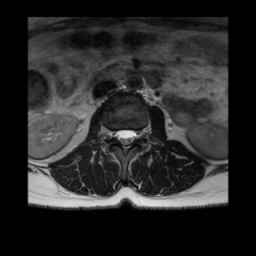CCS_normal: (122, 126, 129, 154)
LFS_normal: (137, 124, 144, 144)
LLS_normal: (129, 124, 136, 149)
RFS_normal: (110, 124, 116, 144)
RLS_normal: (116, 124, 122, 147)
